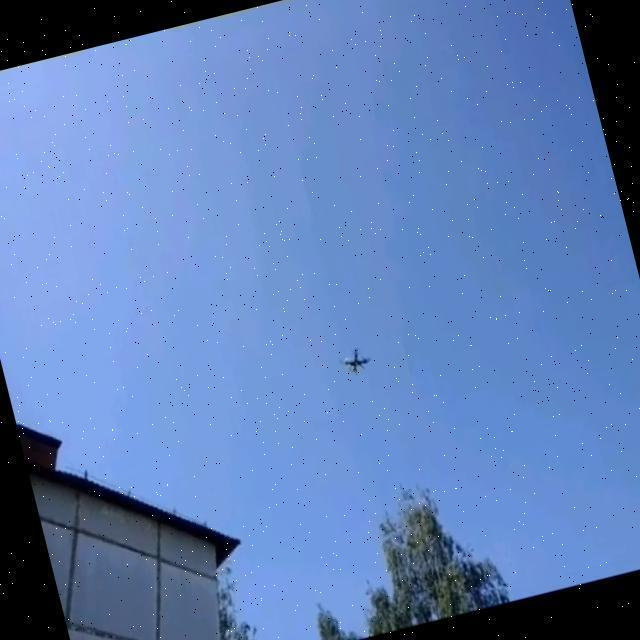Drons: (330, 338, 379, 385)
